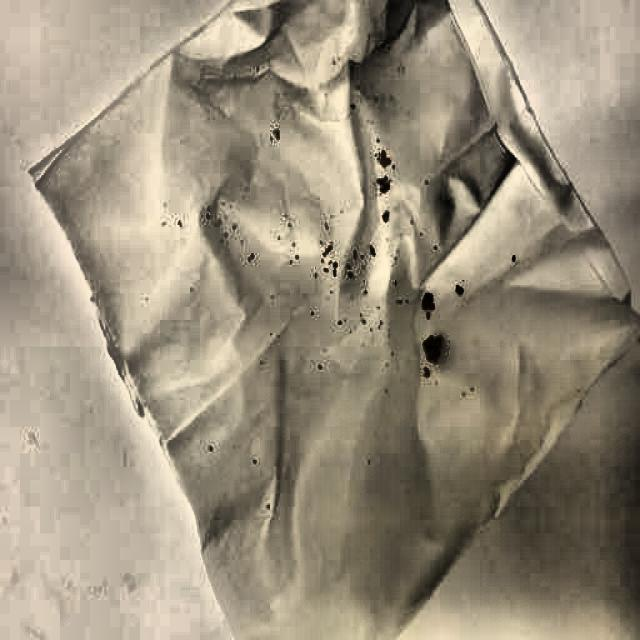paper: (73, 3, 594, 609)
